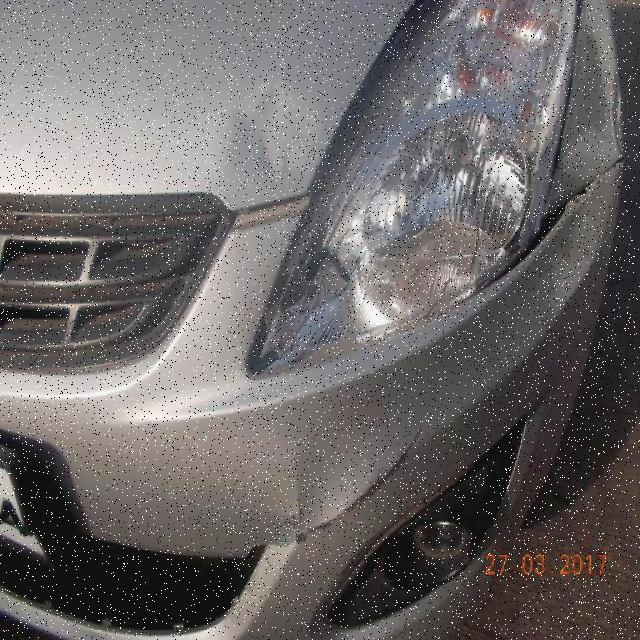car damage: (541, 18, 623, 263), (289, 426, 431, 558), (224, 79, 341, 187), (277, 454, 310, 528)
